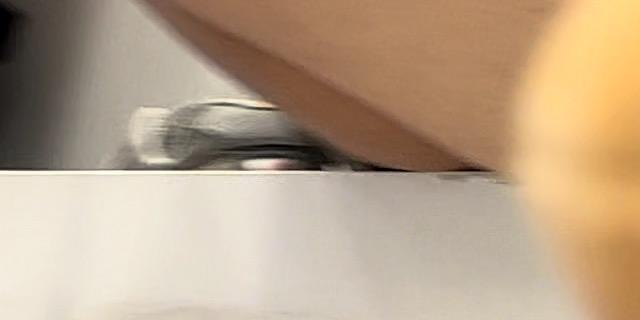burger: (474, 0, 640, 320)
